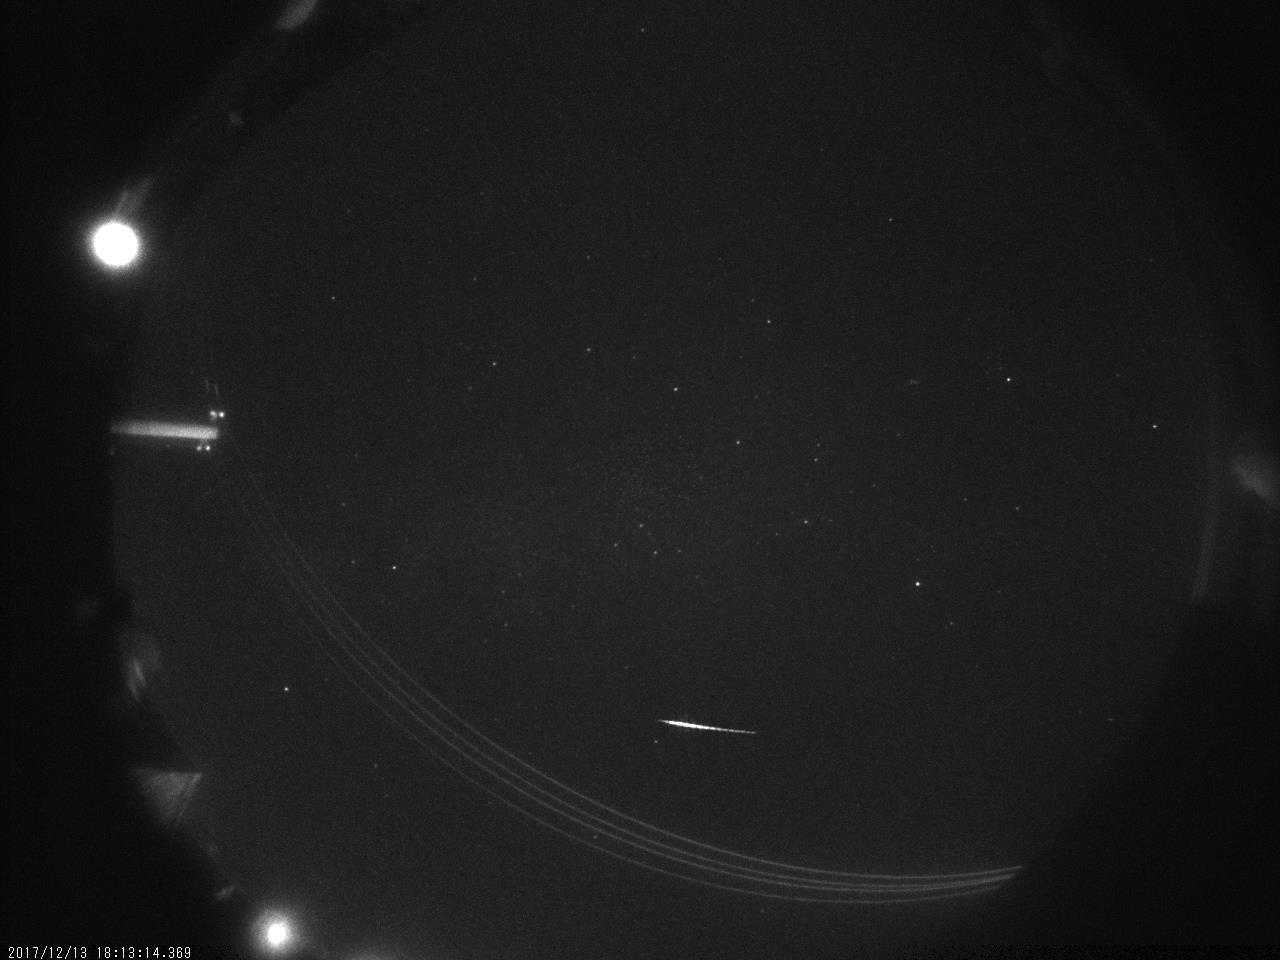Meteor: (657, 714, 756, 736)
